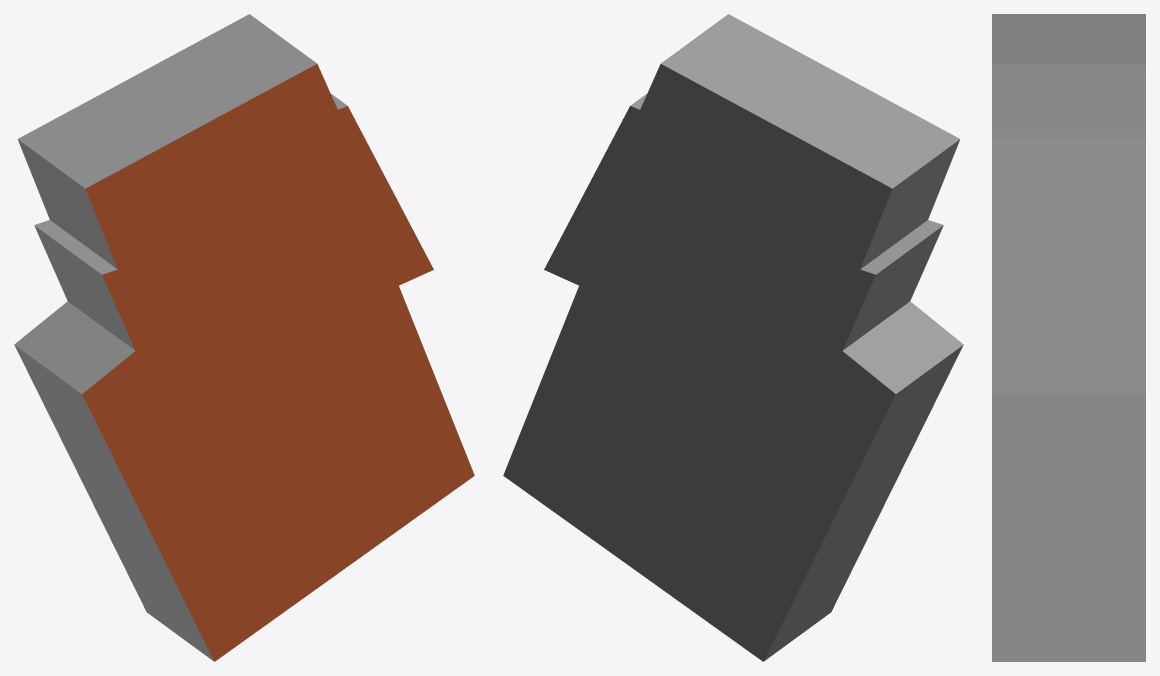
The model's file is construction_2718_assumed_A_Casa_h6m.obj.
3 renders of one model, left to right at view 1: azimuth 30°, elevation 25°; view 2: azimuth 150°, elevation 25°; view 3: azimuth 270°, elevation 25°, orthographic. The views are drawn at different scales.
Parts seen in each view (by area): view 1: construction_2718_assumed_A_Casa; view 2: construction_2718_assumed_A_Casa; view 3: construction_2718_assumed_A_Casa.
Part boxes in pixels (<box>): construction_2718_assumed_A_Casa: <box>14,14,474,661</box>; construction_2718_assumed_A_Casa: <box>503,14,963,661</box>; construction_2718_assumed_A_Casa: <box>992,14,1145,661</box>.
Size of the model in its own units: 20.05 by 27.96 by 6.
